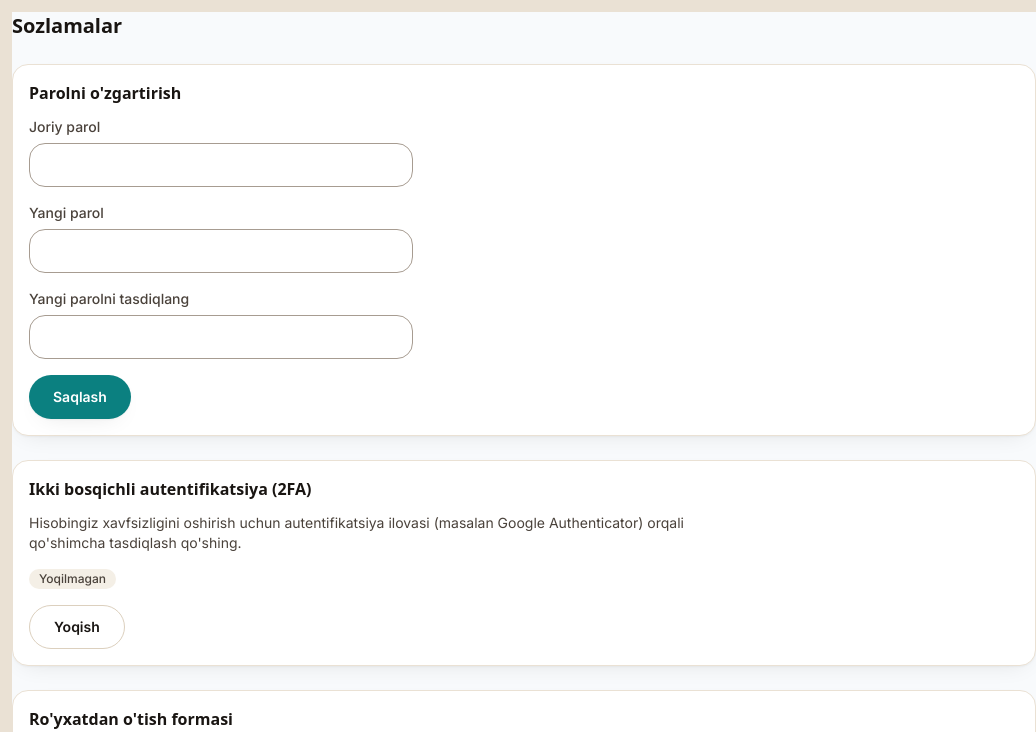
Test case: SettingsPage › 'Yoqish' 2FA ni hali yoqmaydi — holat 'Yoqilmagan' bo'lib qoladi
The width and height of the screenshot is (1036, 732).
Expected: the text "Yoqilmagan" is shown, x1=29 y1=569 x2=116 y2=589
Click the button "Yoqish".
click(77, 627)  # box x1=29 y1=605 x2=125 y2=649
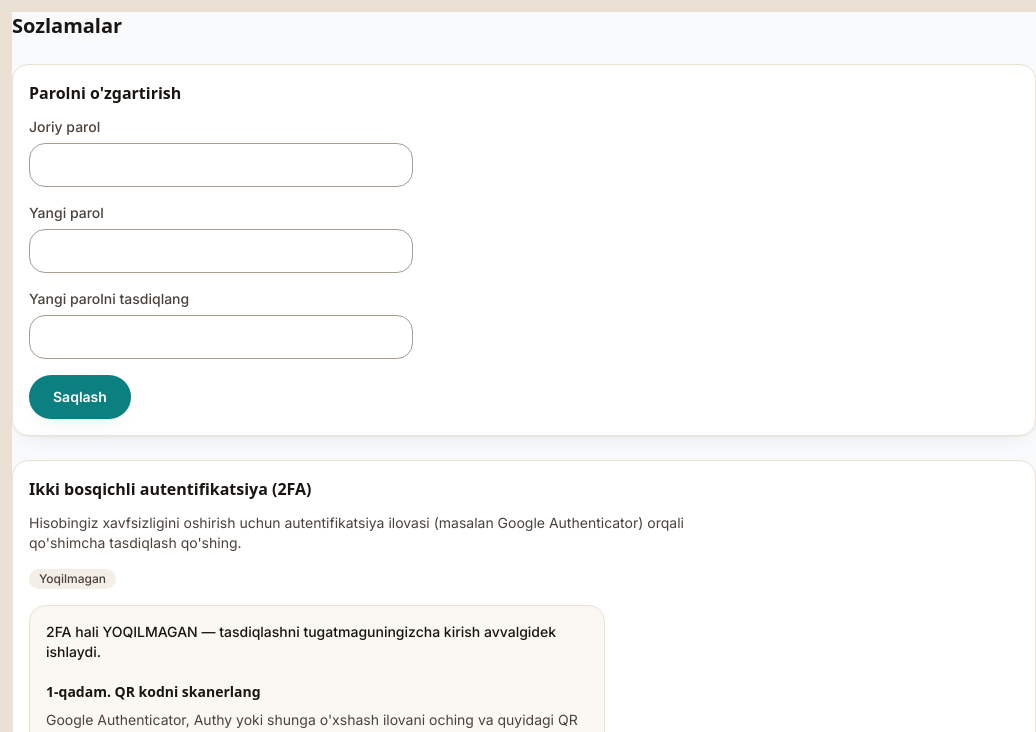
Expected: the text "Yoqilmagan" is shown, x1=29 y1=569 x2=116 y2=589
Result: the text " hali YOQILMAGAN — tasdiqlashni tugatmaguningizcha kirish avvalgidek ishlaydi." is shown at x1=46 y1=623 x2=556 y2=660
